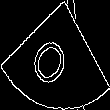O_NE: (31, 22, 79, 88)
